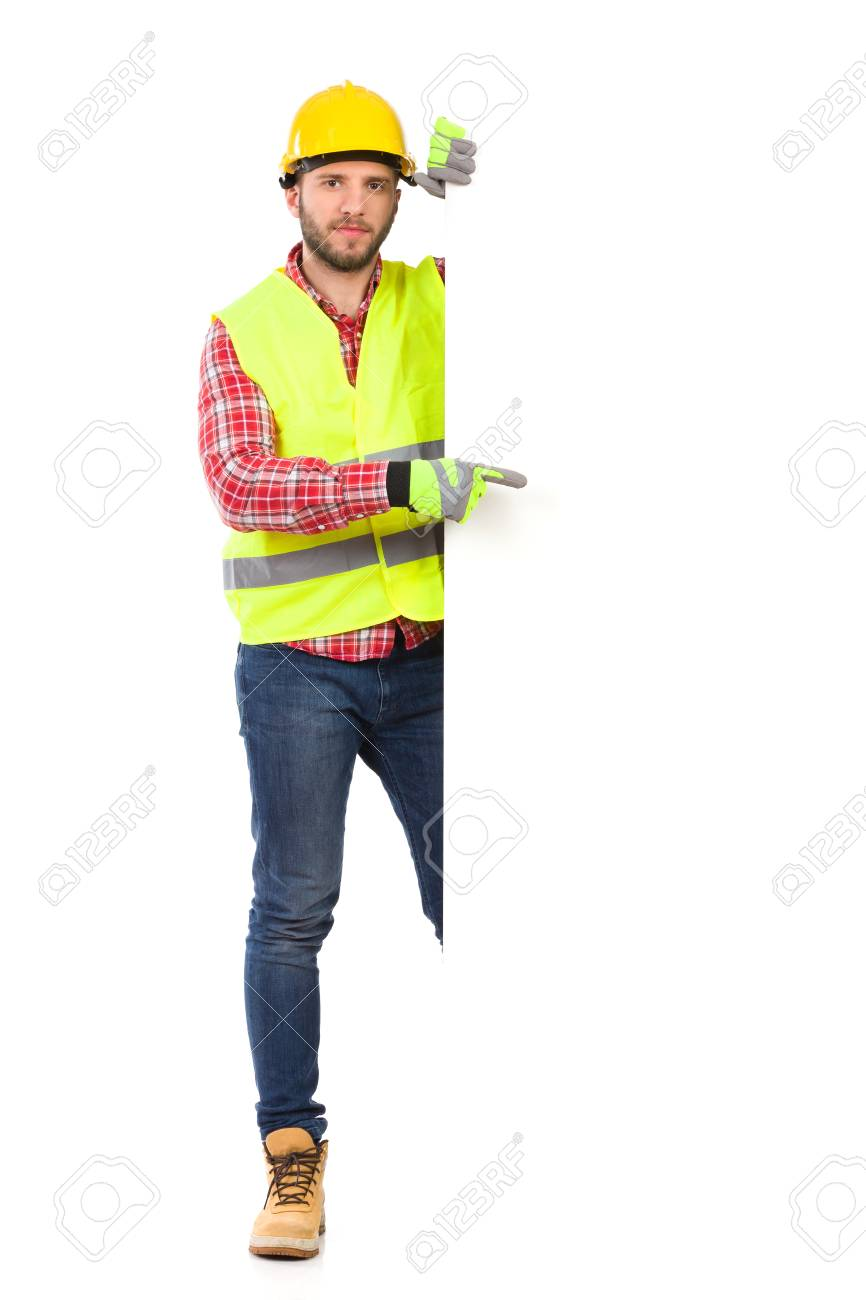Person_wearing_helmet: (262, 68, 436, 188)
